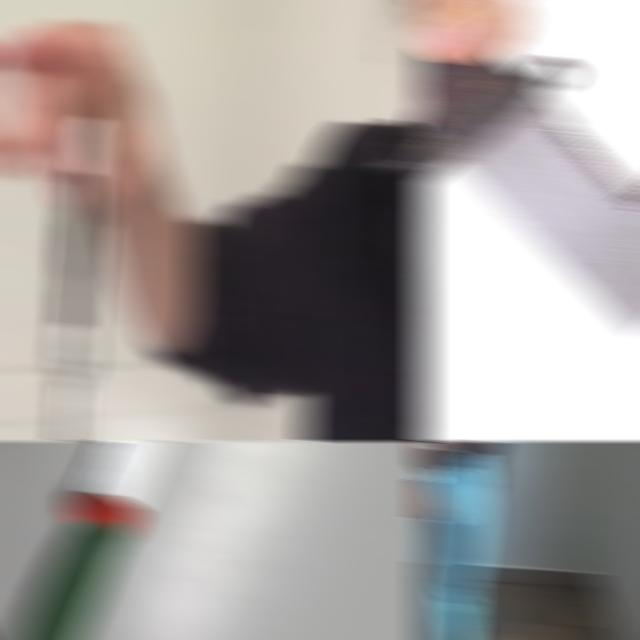Knife: (415, 46, 640, 337), (13, 440, 170, 640)
Knife_Handle: (0, 16, 161, 442)
